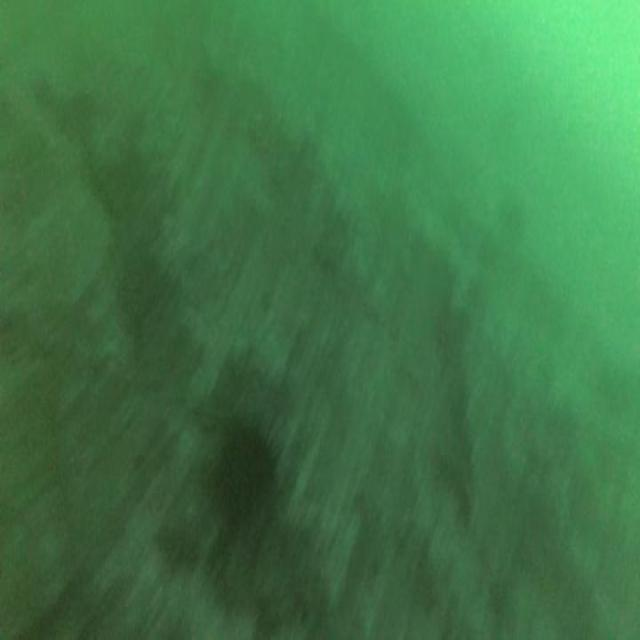echinus: (208, 408, 275, 540)
